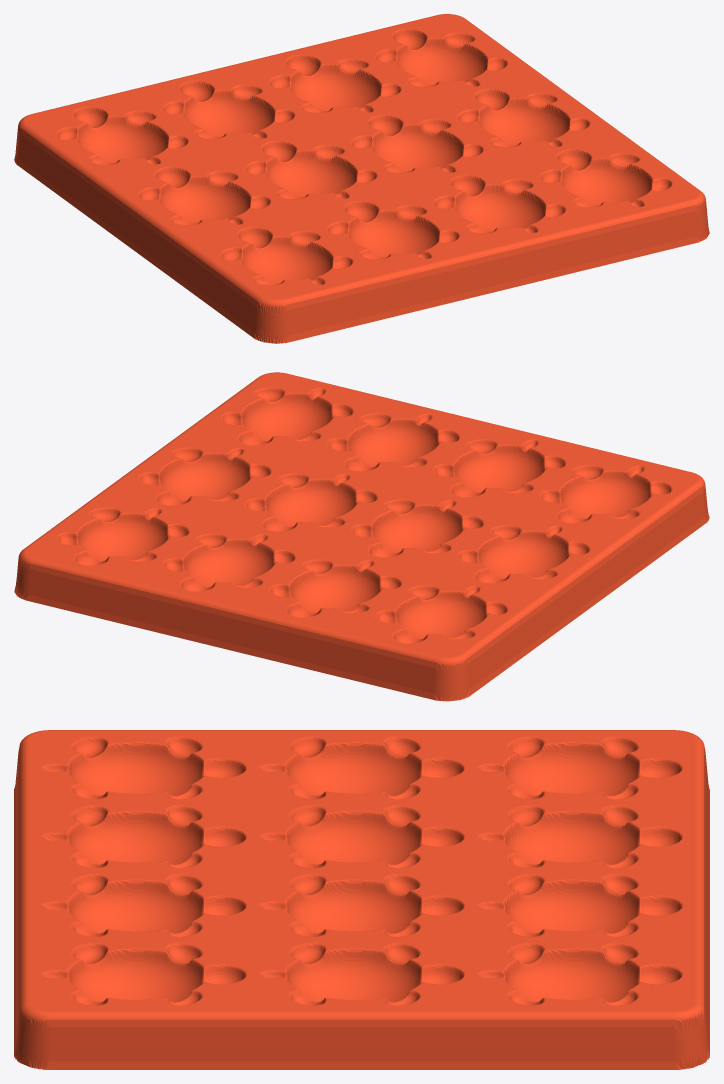
File: mold.glb
The picture shows the model from 3 angles, top to bottom: view 1: azimuth 30°, elevation 25°; view 2: azimuth 150°, elevation 25°; view 3: azimuth 270°, elevation 25°; orthographic projection. The views are drawn at different scales.
Parts seen in each view (by area): view 1: geometry_0; view 2: geometry_0; view 3: geometry_0.
Boxes of the visible parts, x1,y1,x2,y2 form: geometry_0: (14, 14, 709, 343); geometry_0: (14, 372, 709, 701); geometry_0: (14, 730, 709, 1069).
Size of the model in its own units: 0.1745 by 0.0145 by 0.1753.
